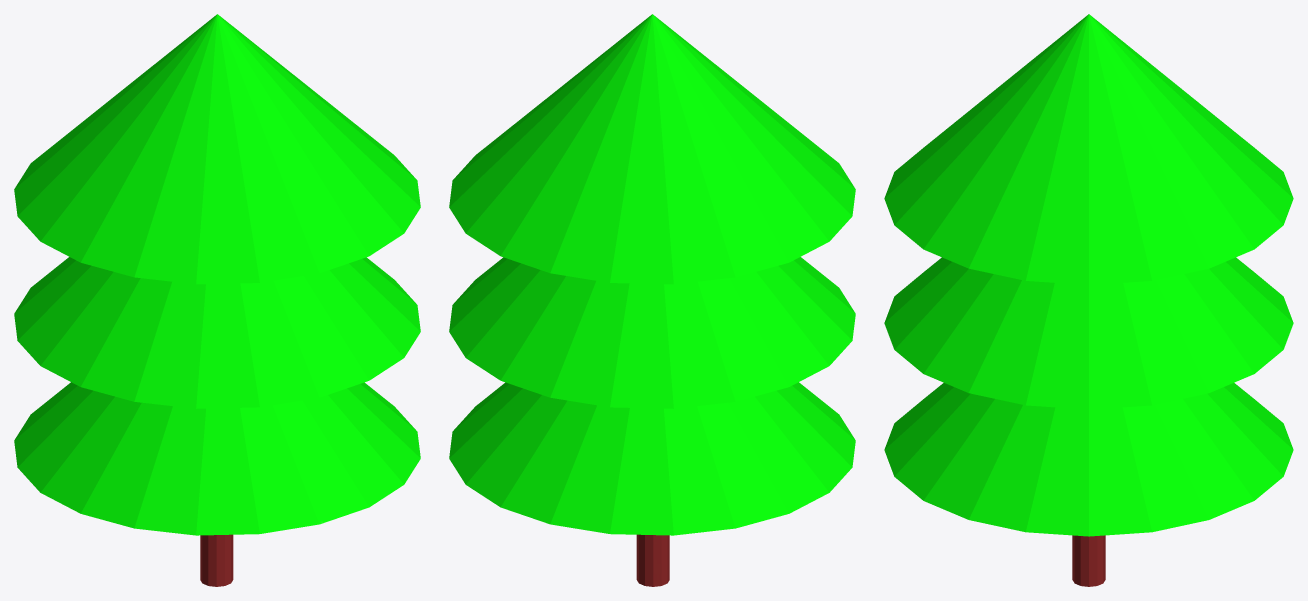
File: tree.gltf
The picture shows the model from 3 angles, left to right: view 1: azimuth 30°, elevation 25°; view 2: azimuth 150°, elevation 25°; view 3: azimuth 270°, elevation 25°; orthographic projection.
Parts seen in each view (by area): view 1: Cylinder_002; view 2: Cylinder_002; view 3: Cylinder_002.
Boxes of the visible parts, x1=… form: Cylinder_002: x1=14, y1=14, x2=420, y2=586; Cylinder_002: x1=449, y1=14, x2=855, y2=586; Cylinder_002: x1=884, y1=14, x2=1293, y2=586.
Bounding box in the file's own units: 1.87 × 2.86 × 1.87.
Materials: 1 (1 with a texture image).
